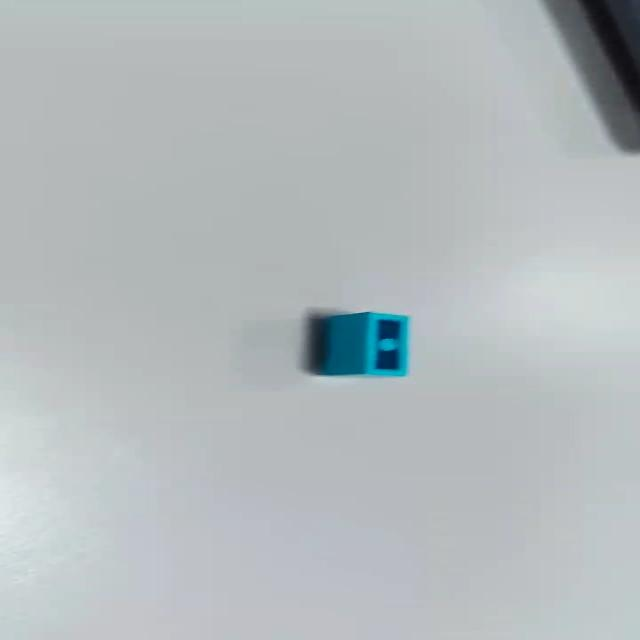C2x1x1: (314, 311, 411, 377)
